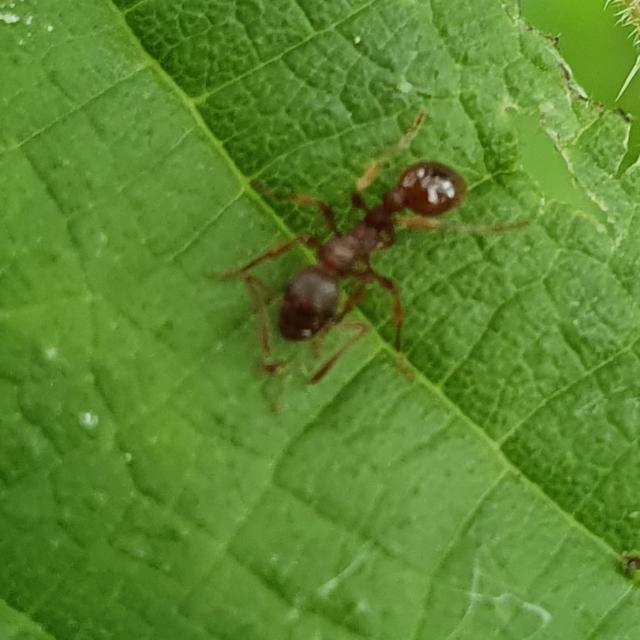Myrmica: (223, 123, 499, 397)
